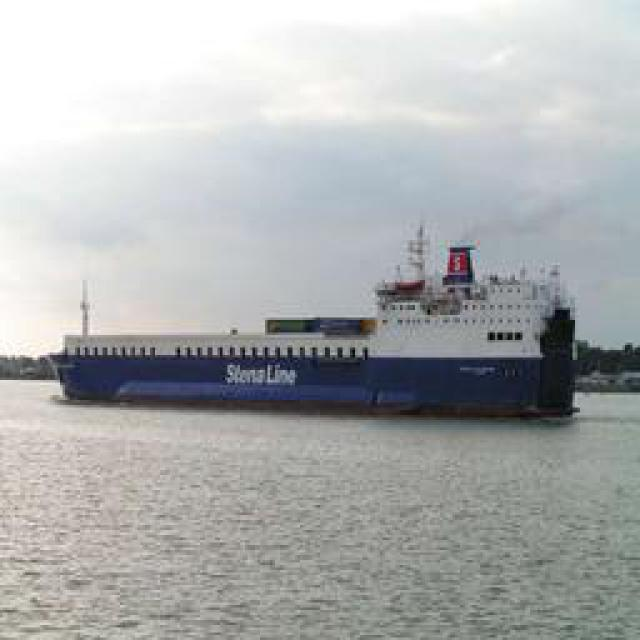Ship: (58, 237, 596, 417)
